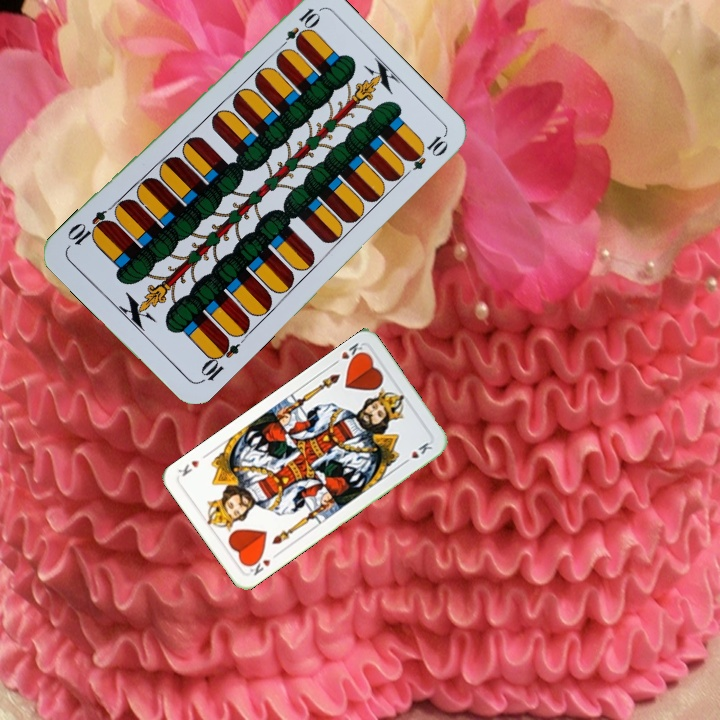E10: (196, 333, 242, 386), (274, 4, 322, 54)
HK: (328, 339, 367, 368), (244, 548, 281, 578)
